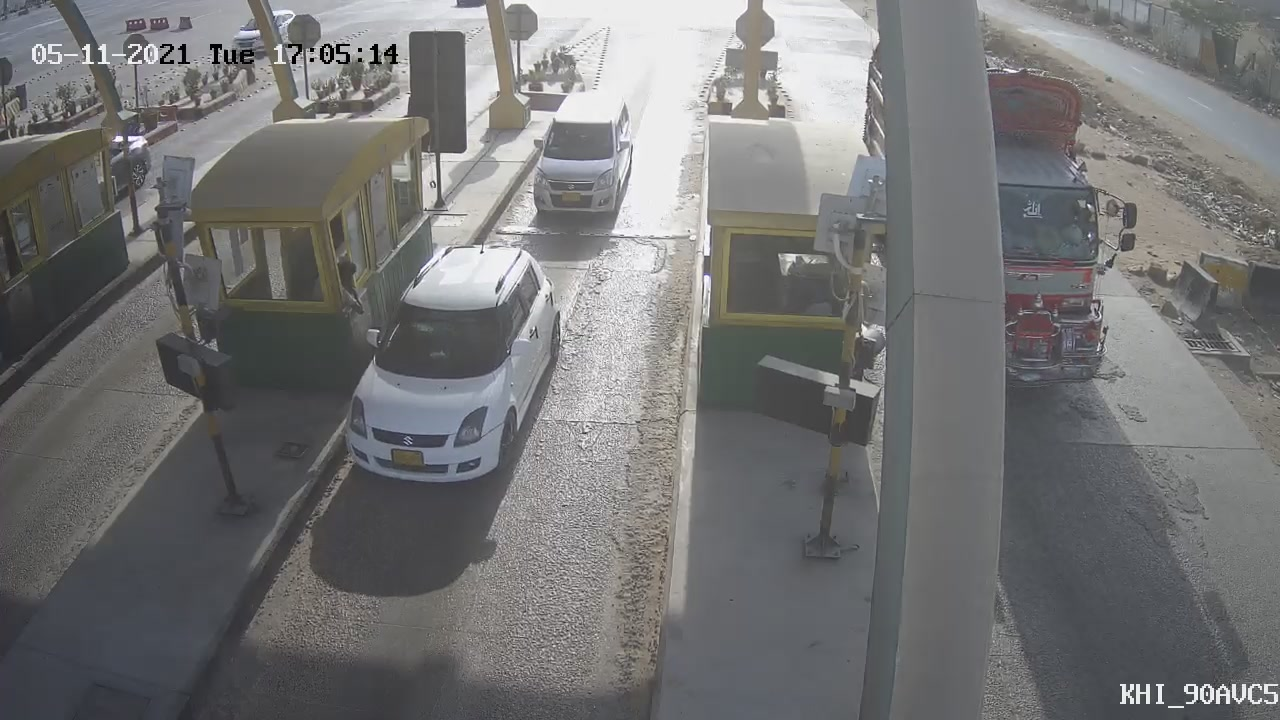F1: (320, 223, 579, 508), (513, 76, 648, 233)
